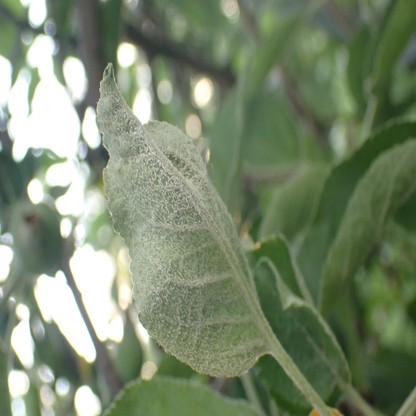powdery_mildew: (96, 63, 268, 375)
